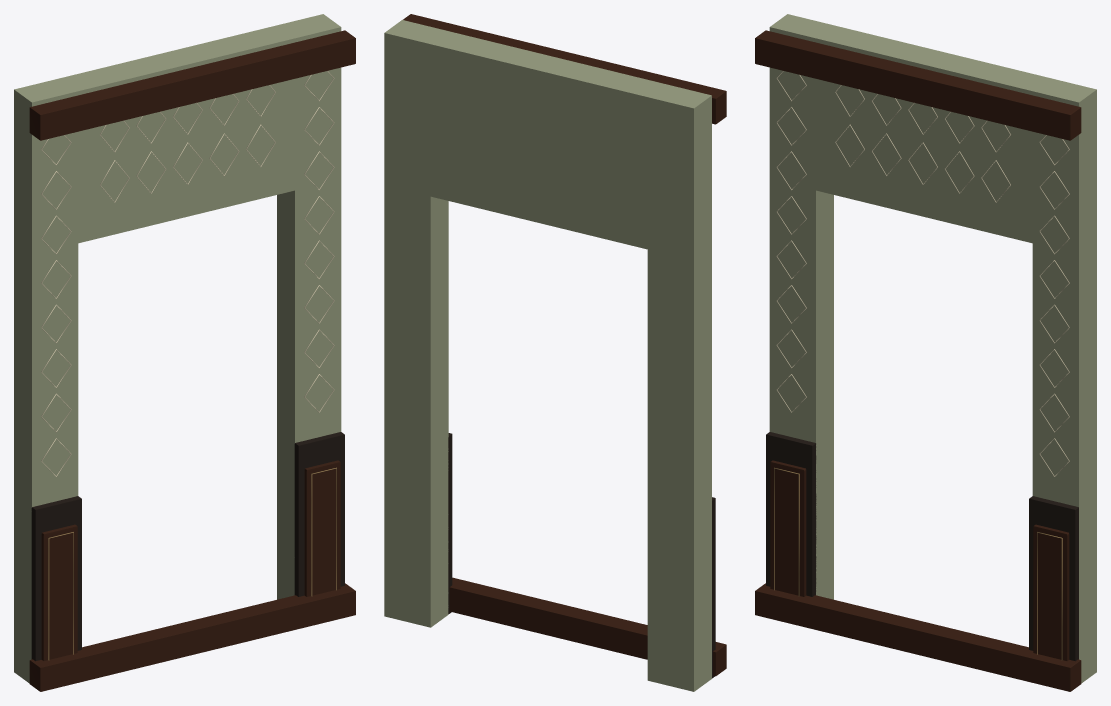
Rendered from Wall_DoorOpening_2m.fbx.
3 views of the same model, side by side, from view 1: azimuth 30°, elevation 25°; view 2: azimuth 150°, elevation 25°; view 3: azimuth 330°, elevation 25° (orthographic).
Parts seen in each view (by area): view 1: Above door.001, Door wall pier.002, Door wall pier.003, Door crown trim.001, Door lower trim.001, Raised wooden panel.028, Raised wooden panel.027, Door pier wainscot backing.002, Door pier wainscot backing.003; view 2: Door wall pier.002, Above door.001, Door wall pier.003, Door lower trim.001, Door crown trim.001, Door pier wainscot backing.003, Door pier wainscot backing.002; view 3: Above door.001, Door wall pier.003, Door wall pier.002, Door crown trim.001, Door lower trim.001, Raised wooden panel.027, Raised wooden panel.028, Door pier wainscot backing.002, Door pier wainscot backing.003.
Boxes of the visible parts, x1=… form: Above door.001: x1=60, y1=25, x2=294, y2=243; Door wall pier.002: x1=14, y1=78, x2=78, y2=683; Door wall pier.003: x1=277, y1=14, x2=341, y2=599; Door crown trim.001: x1=29, y1=30, x2=355, y2=140; Door lower trim.001: x1=29, y1=583, x2=355, y2=691; Raised wooden panel.028: x1=304, y1=460, x2=340, y2=596; Raised wooden panel.027: x1=41, y1=524, x2=77, y2=660; Door pier wainscot backing.002: x1=31, y1=496, x2=81, y2=661; Door pier wainscot backing.003: x1=294, y1=432, x2=344, y2=596; Door wall pier.002: x1=647, y1=84, x2=711, y2=691; Above door.001: x1=430, y1=31, x2=664, y2=249; Door wall pier.003: x1=384, y1=20, x2=448, y2=627; Door lower trim.001: x1=449, y1=577, x2=726, y2=676; Door crown trim.001: x1=403, y1=14, x2=726, y2=124; Door pier wainscot backing.003: x1=448, y1=433, x2=452, y2=613; Door pier wainscot backing.002: x1=712, y1=497, x2=715, y2=678; Above door.001: x1=816, y1=25, x2=1050, y2=243; Door wall pier.003: x1=1032, y1=78, x2=1096, y2=683; Door wall pier.002: x1=769, y1=14, x2=833, y2=599; Door crown trim.001: x1=755, y1=30, x2=1081, y2=140; Door lower trim.001: x1=755, y1=583, x2=1081, y2=691; Raised wooden panel.027: x1=770, y1=460, x2=806, y2=596; Raised wooden panel.028: x1=1033, y1=524, x2=1069, y2=660; Door pier wainscot backing.002: x1=766, y1=432, x2=816, y2=596; Door pier wainscot backing.003: x1=1029, y1=496, x2=1078, y2=661.
Size of the model in its own units: 2.04 by 3.6 by 0.33.
